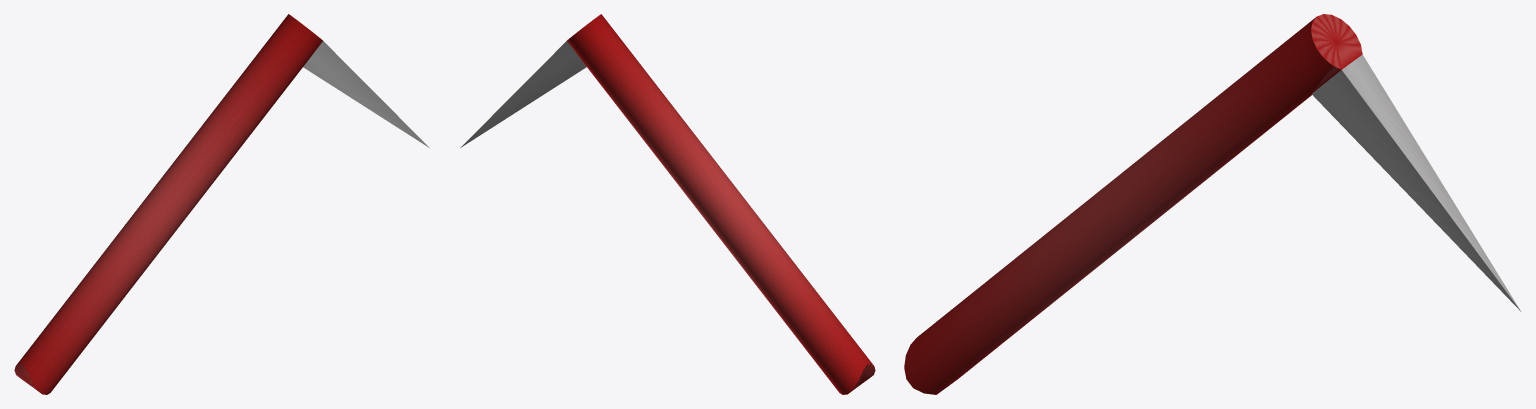
The model's file is singelPin.obj.
The picture shows the model from 3 angles, left to right: view 1: azimuth 30°, elevation 25°; view 2: azimuth 150°, elevation 25°; view 3: azimuth 330°, elevation 25°; orthographic projection. The views are drawn at different scales.
Visible parts, largest first — view 1: singelPin; view 2: singelPin; view 3: singelPin.
Part boxes in pixels (left/top/right/bottom): singelPin: left=14, top=14, right=429, bottom=394; singelPin: left=460, top=14, right=875, bottom=394; singelPin: left=904, top=14, right=1520, bottom=394.
Size of the model in its own units: 2.14 by 1.56 by 0.197.
Materials: 1 (1 with a texture image).
